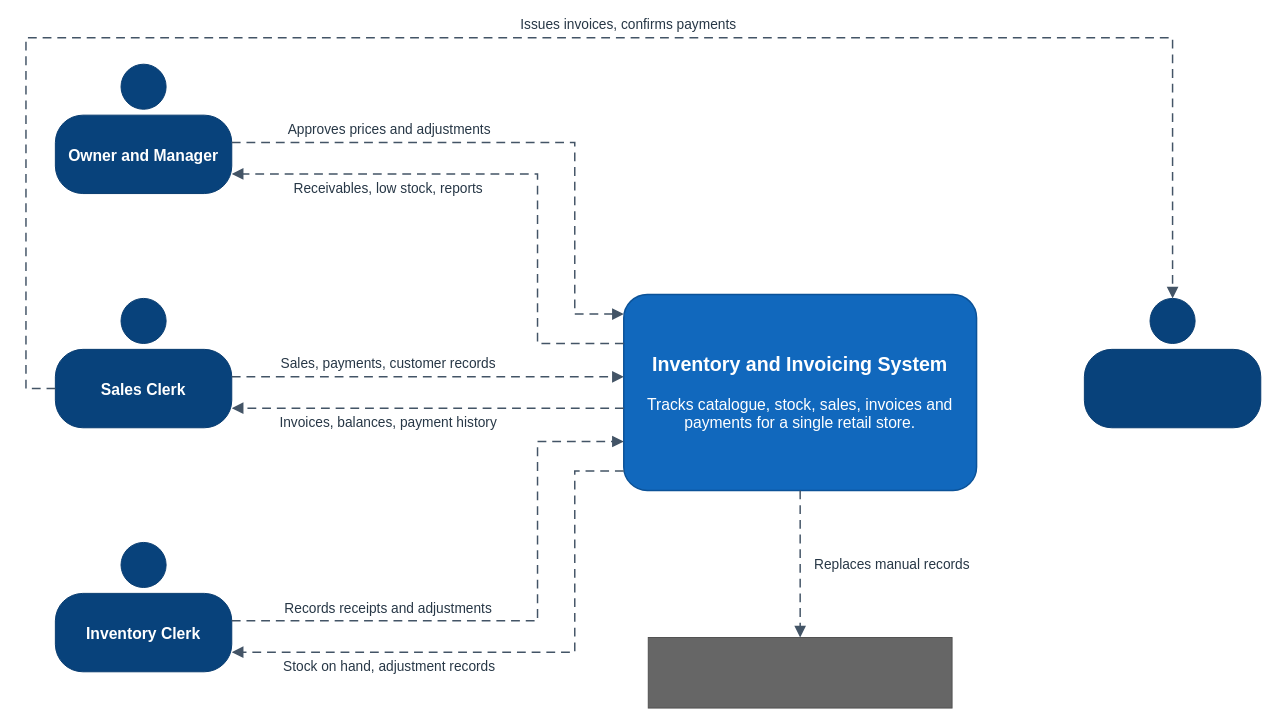
Image size: 1279x725. Some labels were removed from this diagram. The shapes that lost their labels are listed below. From the top down, each one's box as (x1, y1, x2, y2) in pixels, then its label:
(1083, 348, 1261, 428): Customer
(647, 637, 952, 708): Paper and Spreadsheet Records
